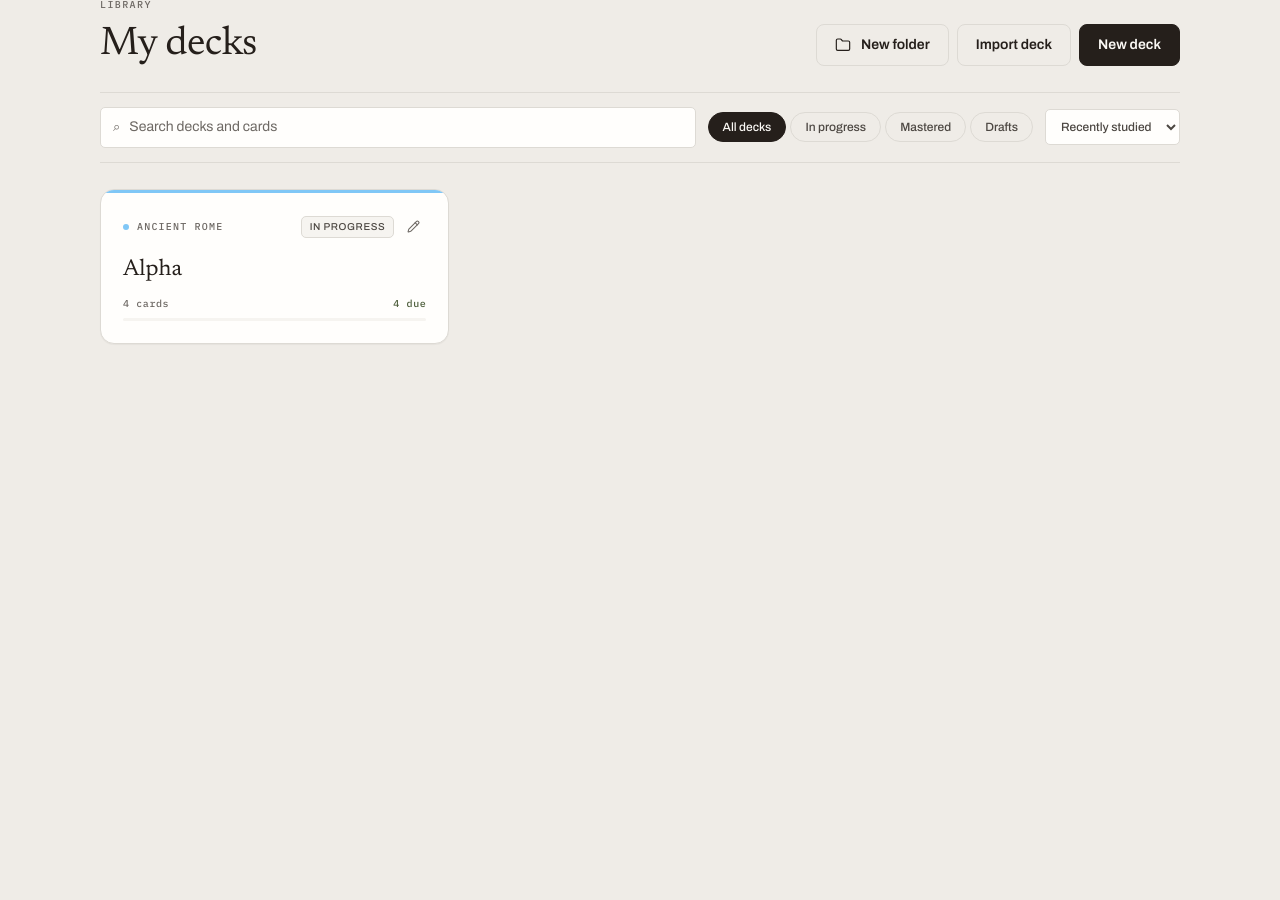
Scenario: creating a folder › adds a section for it
Step 1. Click the button "New folder" → click(882, 45), box [816,24,949,66]
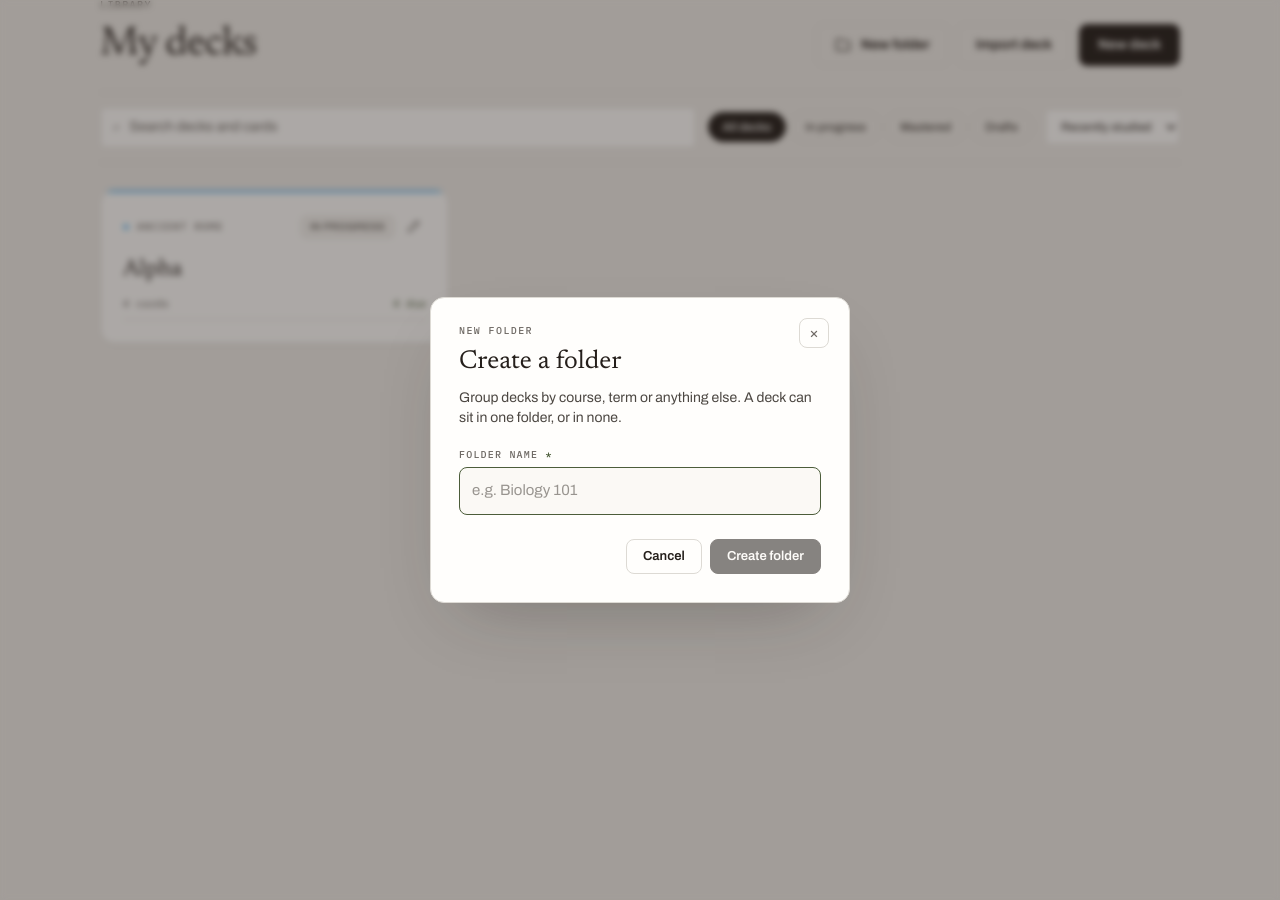
Step 2. Type "Physics" into the field labelled "Folder name *" → (640, 491), box [459,467,821,515]
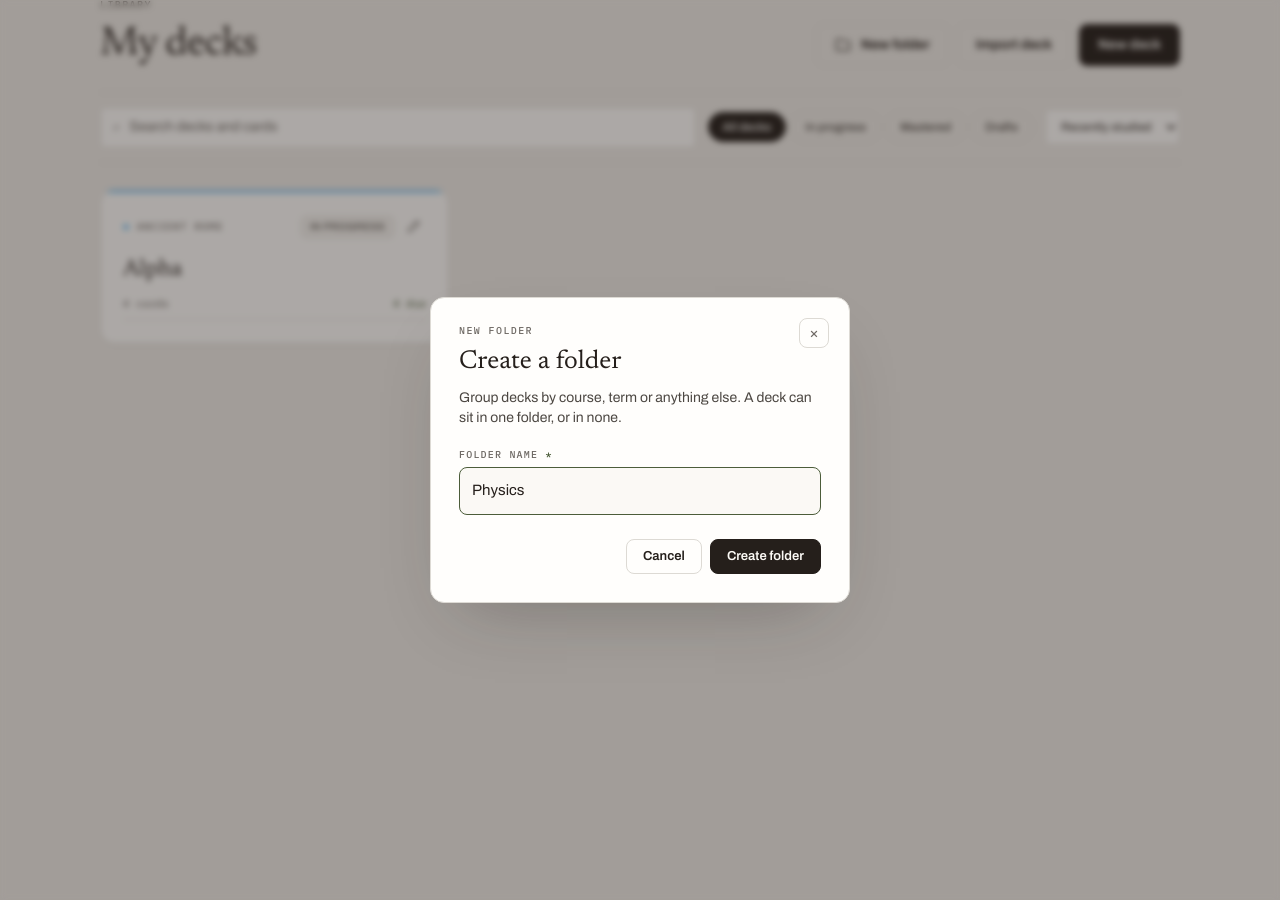
Step 3. Click the button "Create folder" → click(765, 556), box [710,539,821,574]
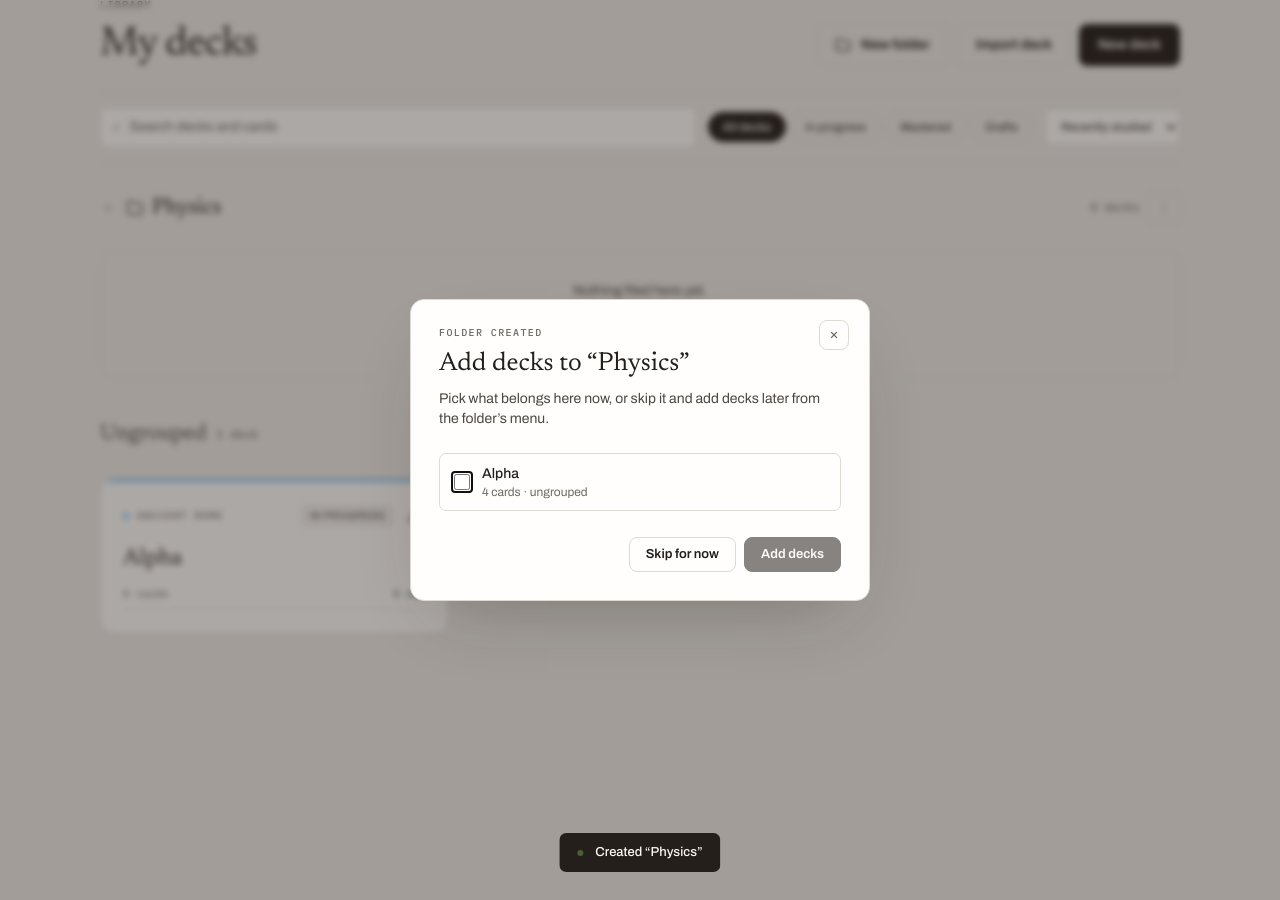
Result: the element "Physics" is shown at [100,188,1180,379]
